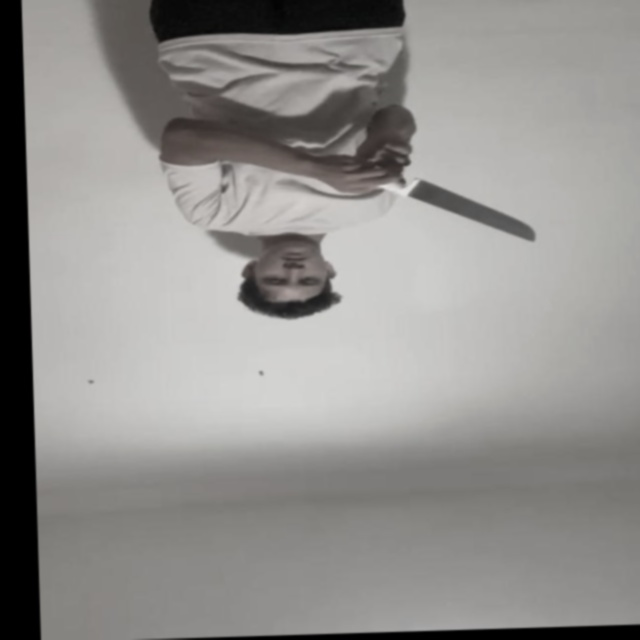Sharp-Object: (418, 184, 539, 247)
